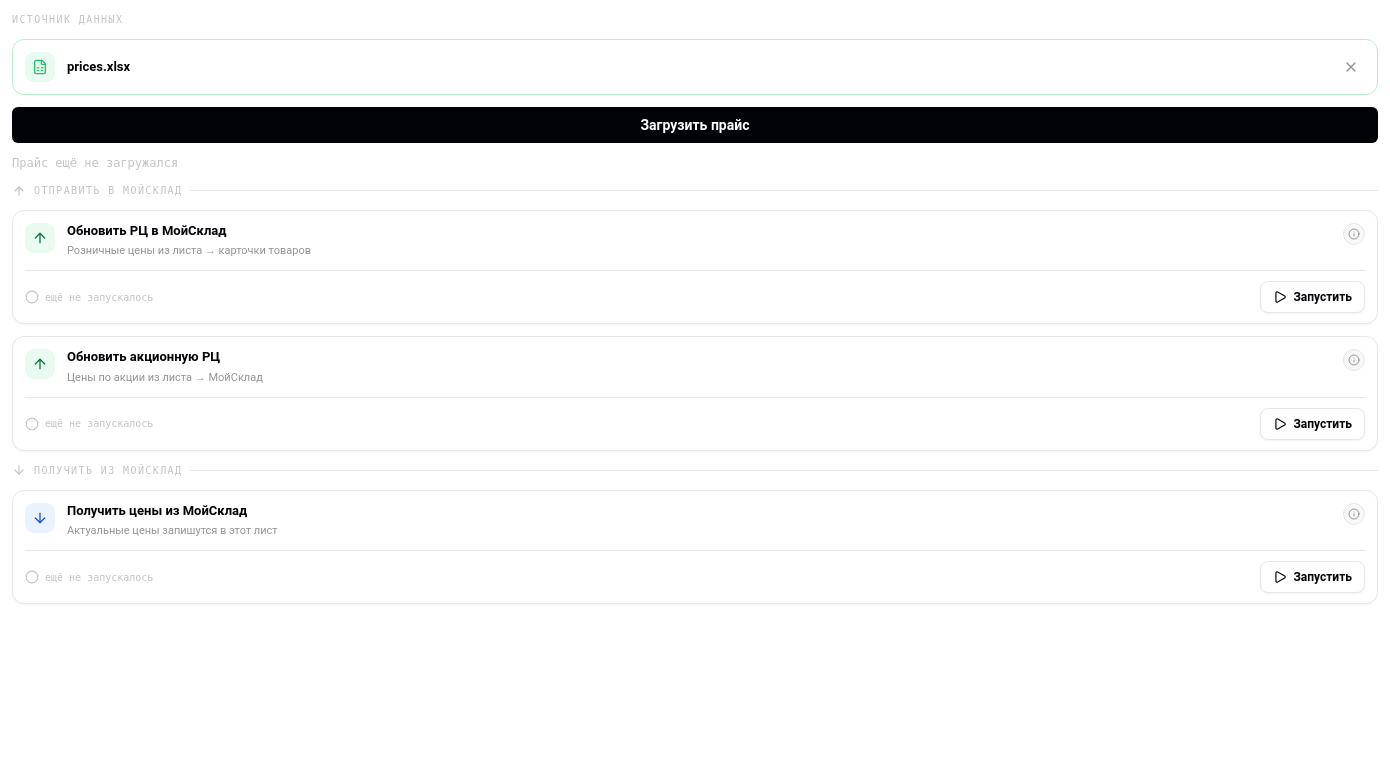
it: MoySkladPanel › FR6: shows the server-provided message on a FAILED progress event and resets the button
Step 1. Click the button with test id "ms-upload-file" → (695, 125), box 12,107 -> 1378,143
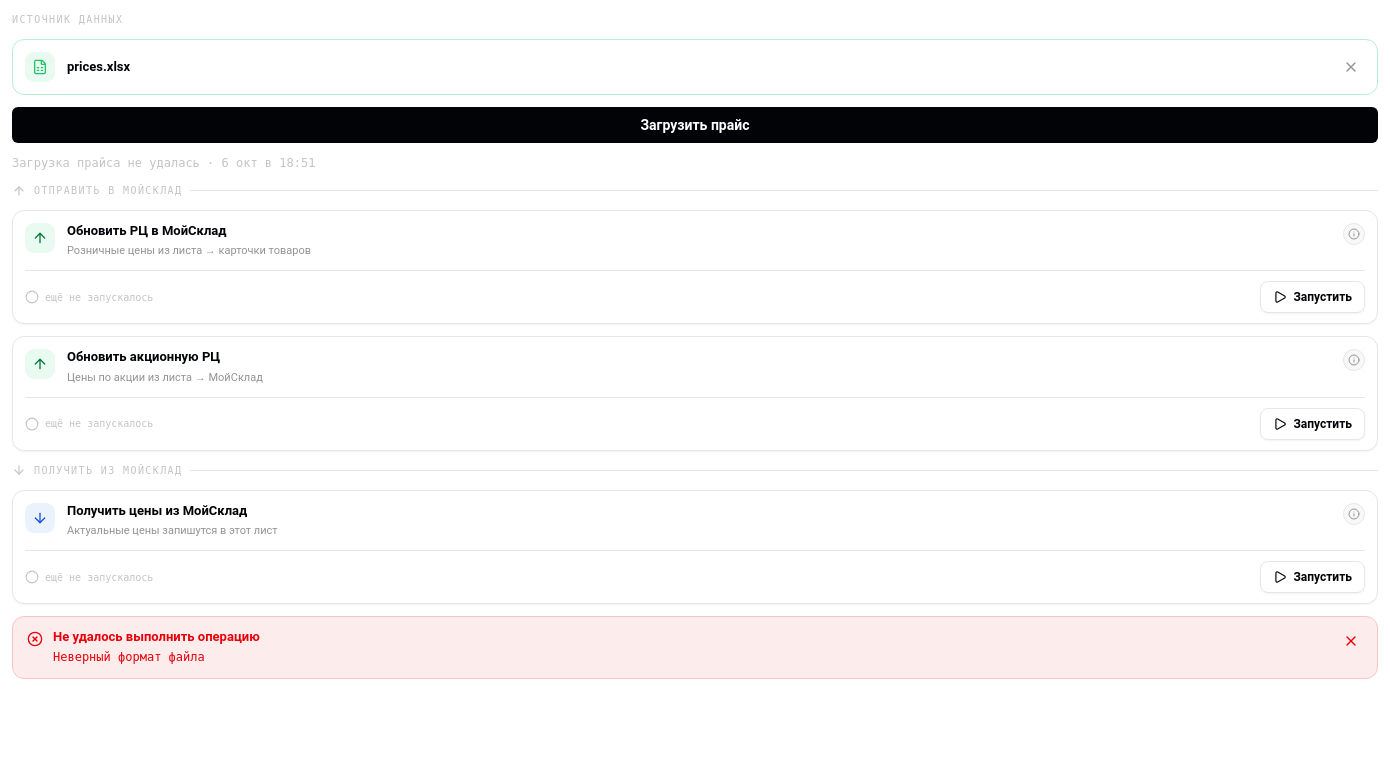
Expected: the message with test id "ms-error" shows "Неверный формат файла", 53,650 -> 205,664
